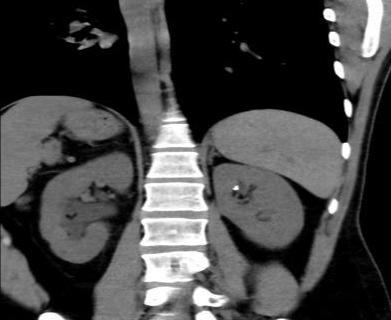Tas_Var: (231, 184, 241, 192)
